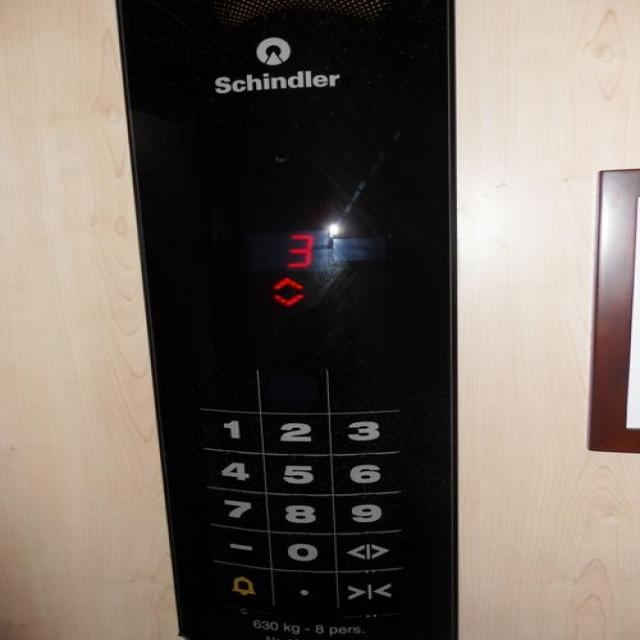-: (266, 566, 337, 609), (206, 523, 270, 568)
0: (262, 528, 336, 571)
1: (196, 408, 262, 451)
2: (259, 408, 330, 452)
3: (326, 409, 398, 453)
4: (200, 446, 264, 492)
5: (260, 451, 331, 494)
6: (329, 451, 401, 495)
7: (202, 486, 266, 530)
8: (262, 490, 333, 534)
9: (328, 491, 399, 533)
alarm: (208, 560, 272, 608)
close: (335, 569, 402, 611)
empty: (323, 366, 398, 416), (253, 366, 330, 414), (192, 366, 265, 414)
led: (195, 199, 393, 329)
open: (332, 531, 401, 571)
